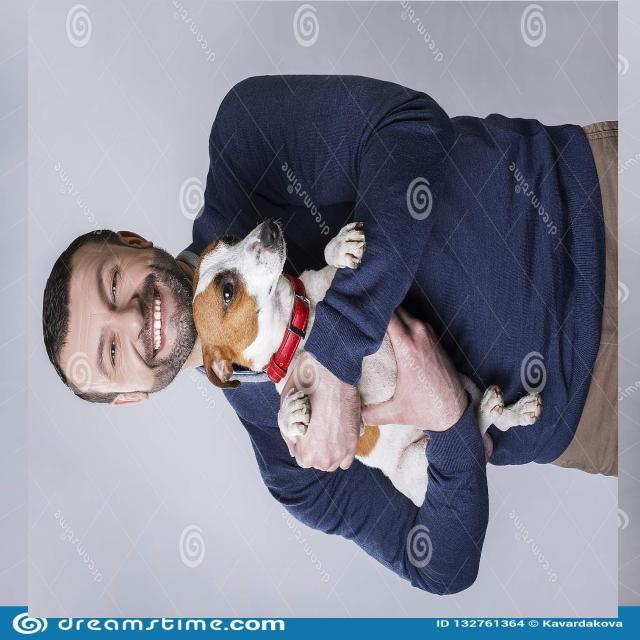NotFall: (0, 5, 640, 638)
